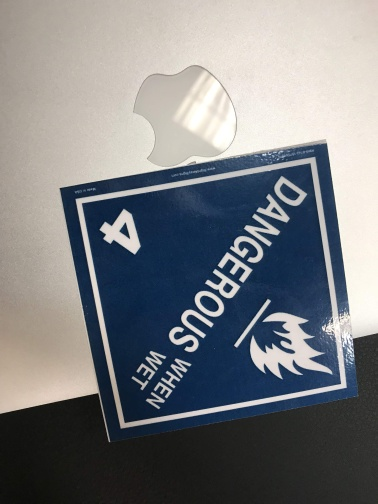DangerousWhenWet: (60, 144, 360, 442)
